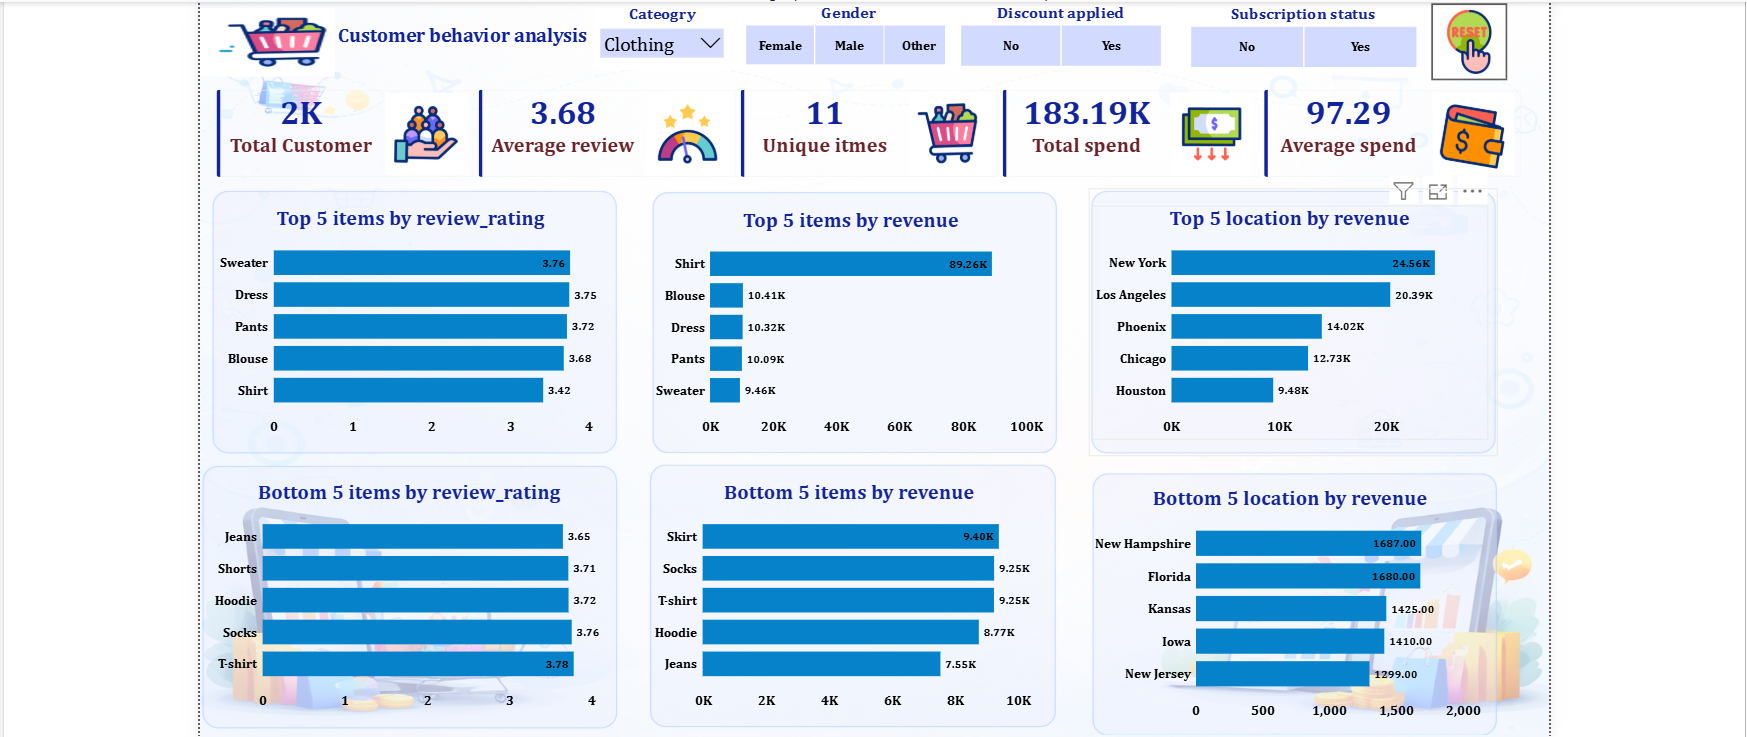

Layout of this report page (visuals, bound fields, positions):
{"tool":"powerbi","page":{"name":"Best-worst","canvas":[2200,1200],"ordinal":1},"visuals":[{"type":"cardVisual","fields":{"Data":["customer_behavior customer.Total Customer","customer_behavior customer.Average review","customer_behavior customer.Unique itmes","customer_behavior customer.Total spend","customer_behavior customer.Average spend"]},"box":[10.2,127,2163.5,176.2],"z":0},{"type":"group","id":"g1","title":"Group 1","box":[16.9,303.7,667.6,436.2],"z":1000},{"type":"shape","box":[16.9,303.7,667.4,436.4],"z":1000,"group":"g1"},{"type":"group","id":"g2","title":"Group 4","box":[0,751.9,684.3,436.4],"z":1000,"group":"g3"},{"type":"shape","box":[0,751.9,684.3,436.4],"z":1000,"group":"g2"},{"type":"shape","box":[1448.5,303.7,667.5,436.4],"z":2000,"group":"g6"},{"type":"shape","box":[732.7,306.1,667.5,434],"z":2000,"group":"g4"},{"type":"shape","box":[730.3,749.6,670,436.4],"z":2000,"group":"g5"},{"type":"group","id":"g3","title":"Group 2","box":[0,751.9,684.3,436.4],"z":2000},{"type":"shape","box":[1450.9,764,667.5,436.4],"z":2000,"group":"g7"},{"type":"group","id":"g4","title":"Group 3","box":[732.7,306.1,667.6,433.8],"z":3000},{"type":"group","id":"g5","title":"Group 3","box":[730.3,749.6,670,436.2],"z":4000},{"type":"group","id":"g6","title":"Group 3","box":[1448.5,303.7,667.6,436.2],"z":5000},{"type":"group","id":"g7","title":"Group 3","box":[1450.9,764,667.5,436.4],"z":6000},{"type":"textbox","box":[219.7,30.5,437.3,74],"z":7000},{"type":"clusteredBarChart","title":"Top 5 items by review_rating ","fields":{"Category":["customer_behavior customer.item_purchased"],"Y":["Avg(customer_behavior customer.review_rating)"]},"box":[26.9,332.4,633.5,381.1],"z":7000,"group":"g1"},{"type":"clusteredBarChart","title":"Top 5 location by revenue","fields":{"Y":["Sum(customer_behavior customer.purchase_amount)"],"Category":["customer_behavior customer.location"]},"box":[1452,332.8,647.1,381.1],"z":7000,"group":"g9"},{"type":"clusteredBarChart","title":"Top 5 items by revenue","fields":{"Category":["customer_behavior customer.item_purchased"],"Y":["Sum(customer_behavior customer.purchase_amount)"]},"box":[736.2,335.1,647.1,379],"z":7000,"group":"g10"},{"type":"group","id":"g8","title":"Group 1","box":[16.9,778.5,650.7,380.8],"z":7000,"group":"g3"},{"type":"clusteredBarChart","title":"Bottom 5 items by review_rating ","fields":{"Category":["customer_behavior customer.item_purchased"],"Y":["Avg(customer_behavior customer.review_rating)"]},"box":[16.9,778.5,649.5,381.1],"z":7000,"group":"g8"},{"type":"clusteredBarChart","title":"Bottom 5 items by revenue","fields":{"Category":["customer_behavior customer.item_purchased"],"Y":["Sum(customer_behavior customer.purchase_amount)"]},"box":[733.9,778.7,649.5,381.1],"z":7000,"group":"g11"},{"type":"clusteredBarChart","title":"Bottom 5 location by revenue","fields":{"Y":["Sum(customer_behavior customer.purchase_amount)"],"Category":["customer_behavior customer.location"]},"box":[1452.5,789,648.3,388],"z":7000,"group":"g12"},{"type":"group","id":"g9","title":"Group 1","box":[1452,332.8,647.1,381.1],"z":7001,"group":"g6"},{"type":"group","id":"g10","title":"Group 1","box":[736.2,335.1,647.1,379],"z":7001,"group":"g4"},{"type":"group","id":"g11","title":"Group 1","box":[733.9,778.7,649.5,381.1],"z":7001,"group":"g5"},{"type":"group","id":"g12","title":"Group 1","box":[1452.5,789,648.3,388],"z":7001,"group":"g7"},{"type":"actionButton","box":[0,10.9,219.7,111],"z":8000},{"type":"slicer","title":"Cateogry","fields":{"Values":["customer_behavior customer.category"]},"box":[641.8,2.2,221.9,108.8],"z":9000},{"type":"slicer","title":"Gender","fields":{"Values":["customer_behavior customer.gender"]},"box":[863.7,0,387.3,108.8],"z":10000},{"type":"slicer","title":"Discount applied","fields":{"Values":["customer_behavior customer.discount_applied"]},"box":[1214,0,376.4,111],"z":11000},{"type":"slicer","title":"Subscription status","fields":{"Values":["customer_behavior customer.subscription_status"]},"box":[1590.4,2.2,417.7,111],"z":12000},{"type":"actionButton","box":[2007.9,1.7,123.9,125.6],"z":13000}]}

Visuals, with their boxes on the page's 2200x1200 design canvas (x1, y1, x2, y2). These are canvas units, not pixel positions in the 1747x737 screenshot, which may show the page scaled, cropped or inside an application window:
cardVisual - customer_behavior customer.Total Customer x customer_behavior customer.Average review: <bbox>10, 127, 2174, 303</bbox>
"Group 1" group: <bbox>17, 304, 684, 740</bbox>
shape: <bbox>17, 304, 684, 740</bbox>
"Group 4" group: <bbox>0, 752, 684, 1188</bbox>
shape: <bbox>0, 752, 684, 1188</bbox>
shape: <bbox>1448, 304, 2116, 740</bbox>
shape: <bbox>733, 306, 1400, 740</bbox>
shape: <bbox>730, 750, 1400, 1186</bbox>
"Group 2" group: <bbox>0, 752, 684, 1188</bbox>
shape: <bbox>1451, 764, 2118, 1200</bbox>
"Group 3" group: <bbox>733, 306, 1400, 740</bbox>
"Group 3" group: <bbox>730, 750, 1400, 1186</bbox>
"Group 3" group: <bbox>1448, 304, 2116, 740</bbox>
"Group 3" group: <bbox>1451, 764, 2118, 1200</bbox>
textbox: <bbox>220, 30, 657, 104</bbox>
"Top 5 items by review_rating " clusteredBarChart: <bbox>27, 332, 660, 714</bbox>
"Top 5 location by revenue" clusteredBarChart: <bbox>1452, 333, 2099, 714</bbox>
"Top 5 items by revenue" clusteredBarChart: <bbox>736, 335, 1383, 714</bbox>
"Group 1" group: <bbox>17, 778, 668, 1159</bbox>
"Bottom 5 items by review_rating " clusteredBarChart: <bbox>17, 778, 666, 1160</bbox>
"Bottom 5 items by revenue" clusteredBarChart: <bbox>734, 779, 1383, 1160</bbox>
"Bottom 5 location by revenue" clusteredBarChart: <bbox>1452, 789, 2101, 1177</bbox>
"Group 1" group: <bbox>1452, 333, 2099, 714</bbox>
"Group 1" group: <bbox>736, 335, 1383, 714</bbox>
"Group 1" group: <bbox>734, 779, 1383, 1160</bbox>
"Group 1" group: <bbox>1452, 789, 2101, 1177</bbox>
actionButton: <bbox>0, 11, 220, 122</bbox>
"Cateogry" slicer: <bbox>642, 2, 864, 111</bbox>
"Gender" slicer: <bbox>864, 0, 1251, 109</bbox>
"Discount applied" slicer: <bbox>1214, 0, 1590, 111</bbox>
"Subscription status" slicer: <bbox>1590, 2, 2008, 113</bbox>
actionButton: <bbox>2008, 2, 2132, 127</bbox>
